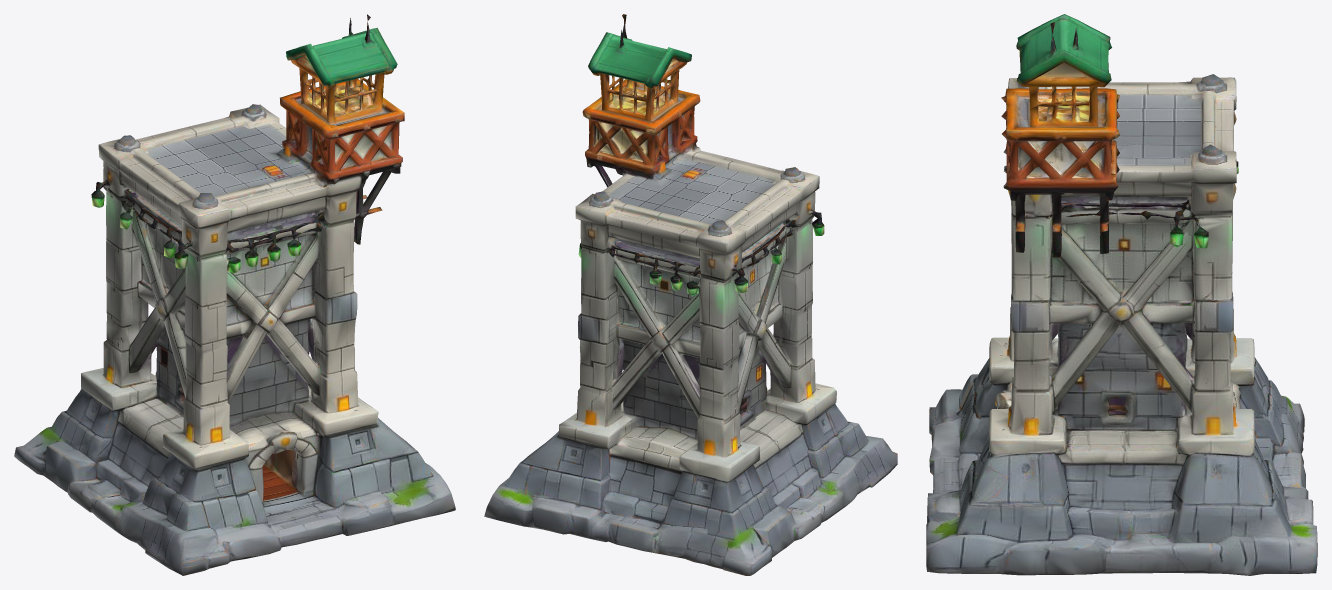
File: tower.glb
3 views of the same model, side by side, from view 1: azimuth 30°, elevation 25°; view 2: azimuth 150°, elevation 25°; view 3: azimuth 270°, elevation 25° (orthographic). The views are drawn at different scales.
Parts seen in each view (by area): view 1: Mesh_0; view 2: Mesh_0; view 3: Mesh_0.
Part boxes in pixels (x1,y1,x2,y2): Mesh_0: (14, 14, 455, 575); Mesh_0: (484, 14, 897, 575); Mesh_0: (926, 14, 1317, 575).
Bounding box in the file's own units: 1.23 × 1.91 × 1.27.
1 material, 1 textured.
